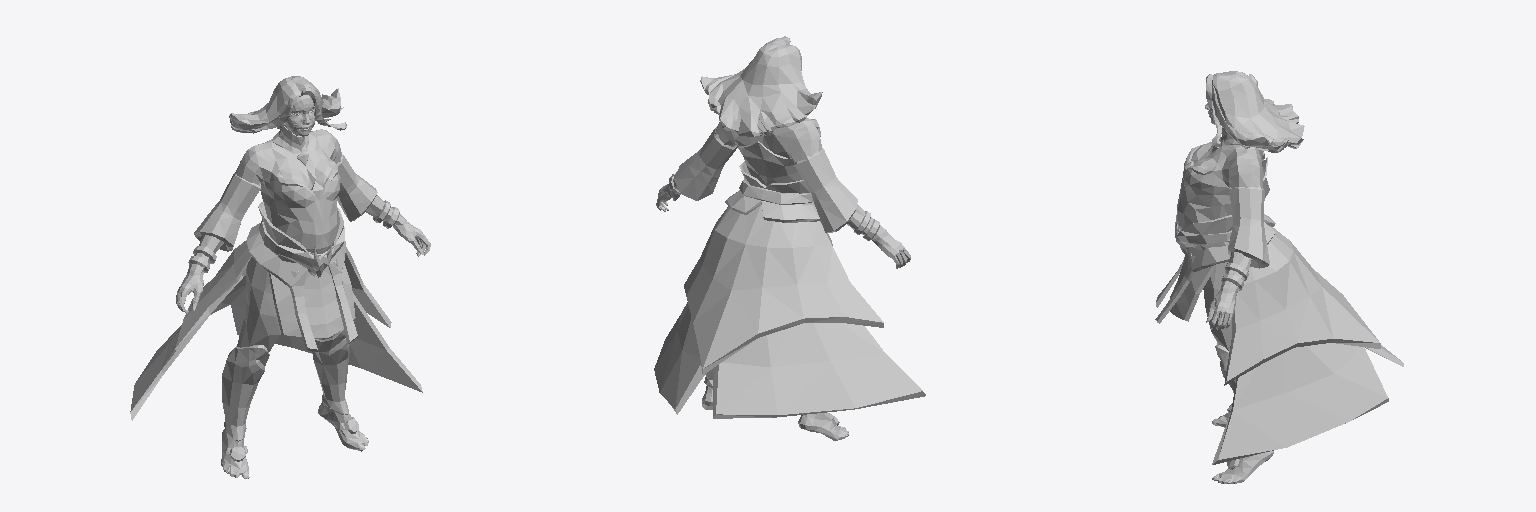
File: lina_statue_000005.obj
The picture shows the model from 3 angles: view 1: azimuth 30°, elevation 25°; view 2: azimuth 150°, elevation 25°; view 3: azimuth 270°, elevation 25°; orthographic projection.
Visible parts, largest first — view 1: lina_body.001_lina_body; view 2: lina_body.001_lina_body; view 3: lina_body.001_lina_body.
Part boxes in pixels (left/top/right/bottom): lina_body.001_lina_body: left=130, top=76, right=430, bottom=478; lina_body.001_lina_body: left=654, top=36, right=925, bottom=440; lina_body.001_lina_body: left=1155, top=71, right=1403, bottom=483.
Size of the model in its own units: 139 by 179 by 106.